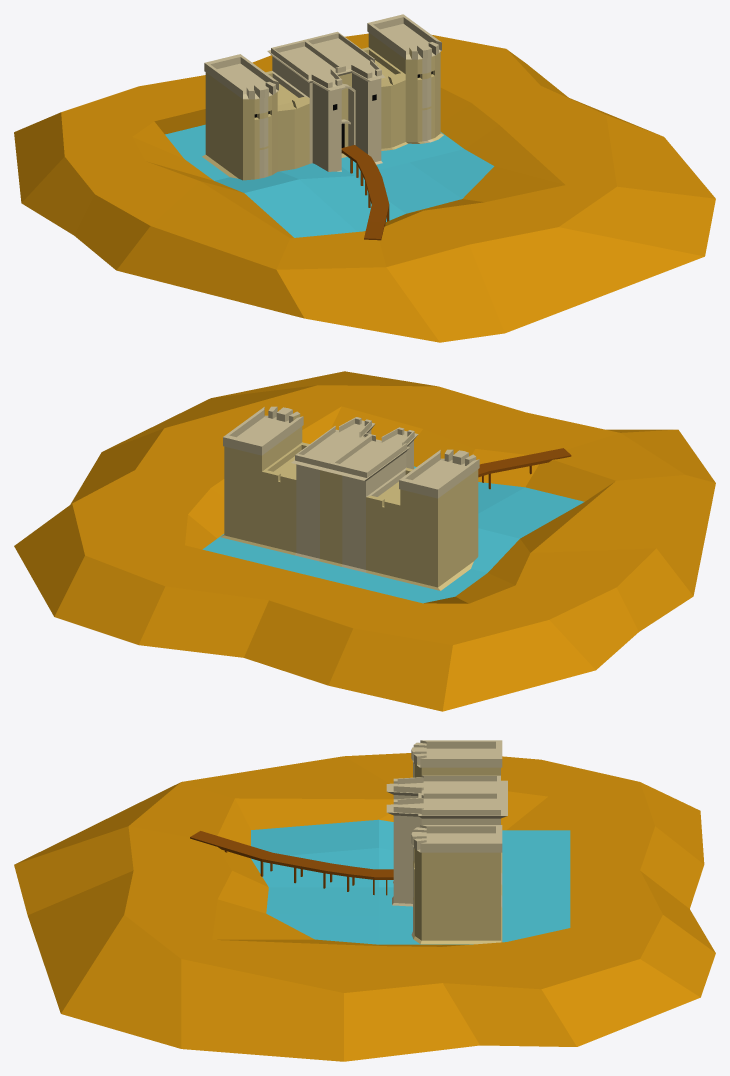
Rendered from castle.fbx.
3 renders of one model, top to bottom at view 1: azimuth 30°, elevation 25°; view 2: azimuth 150°, elevation 25°; view 3: azimuth 270°, elevation 25°, orthographic. The views are drawn at different scales.
Parts seen in each view (by area): view 1: Cube.002, Cube, Cube.001; view 2: Cube.002, Cube, Cube.001; view 3: Cube.002, Cube, Cube.001.
Boxes of the visible parts, bbox=[...] form: Cube.002: bbox=[14, 33, 715, 342]; Cube: bbox=[202, 14, 443, 180]; Cube.001: bbox=[341, 145, 389, 240]; Cube.002: bbox=[14, 371, 715, 711]; Cube: bbox=[220, 406, 479, 590]; Cube.001: bbox=[478, 448, 571, 489]; Cube.002: bbox=[14, 753, 715, 1061]; Cube: bbox=[386, 740, 507, 944]; Cube.001: bbox=[190, 831, 393, 895].
Size of the model in its own units: 1707 by 375 by 1770.
